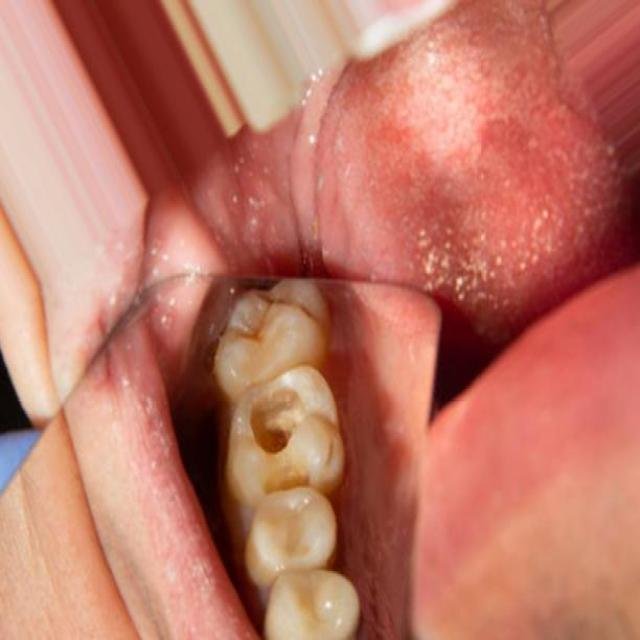caries: (240, 360, 343, 502)
